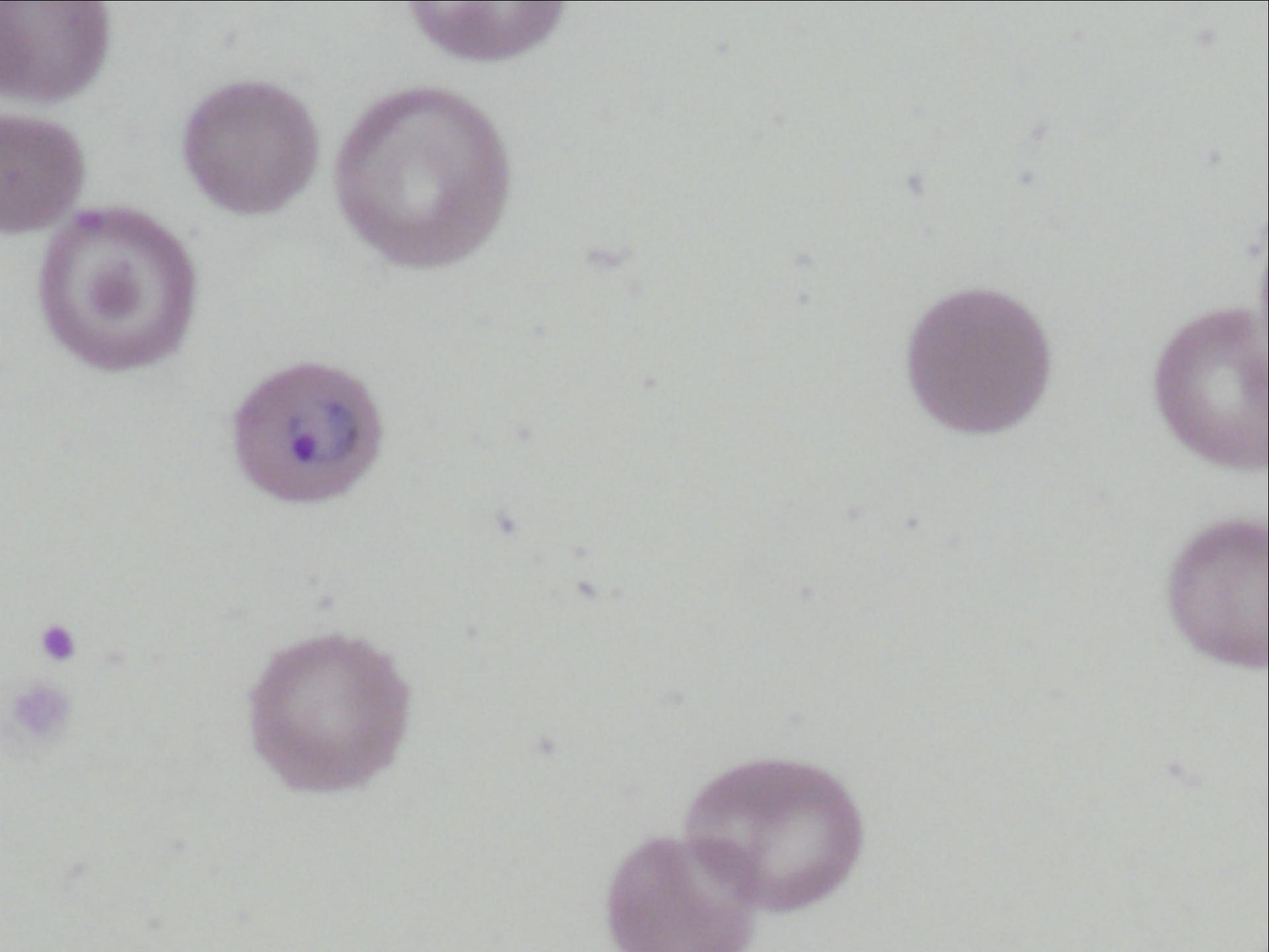Infected: (231, 357, 388, 505)
Uninfected: (337, 89, 510, 273), (685, 758, 861, 914), (251, 635, 411, 798), (40, 210, 199, 367), (910, 289, 1048, 439), (189, 80, 322, 217), (1154, 311, 1269, 469), (606, 838, 759, 952), (1170, 523, 1269, 667), (0, 0, 112, 104), (0, 110, 84, 230)
